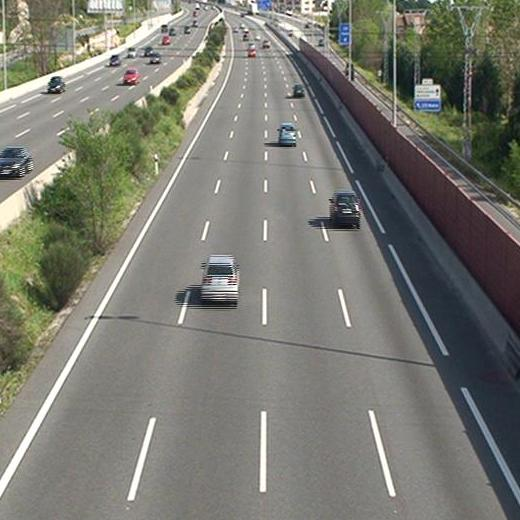car: (200, 256, 240, 300), (329, 190, 361, 225), (278, 124, 297, 145), (292, 83, 303, 97)
